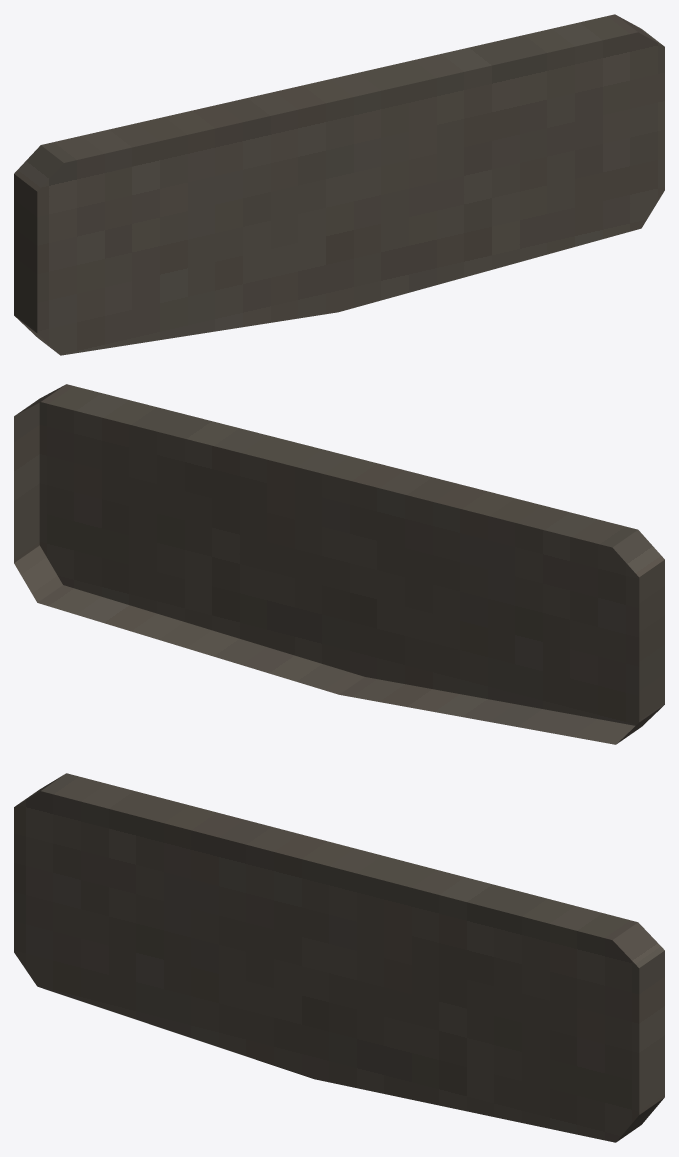
The model's file is computer_1_002.glb.
3 renders of one model, top to bottom at view 1: azimuth 30°, elevation 25°; view 2: azimuth 150°, elevation 25°; view 3: azimuth 330°, elevation 25°, orthographic. The views are drawn at different scales.
Visible parts, largest first — view 1: computer_1.002; view 2: computer_1.002; view 3: computer_1.002.
Part boxes in pixels (x1,y1,x2,y2): computer_1.002: [14, 14, 664, 355]; computer_1.002: [14, 384, 664, 744]; computer_1.002: [14, 773, 664, 1142].
Size of the model in its own units: 0.0776 by 0.0254 by 0.0071.
Materials: 1 (1 with a texture image).
